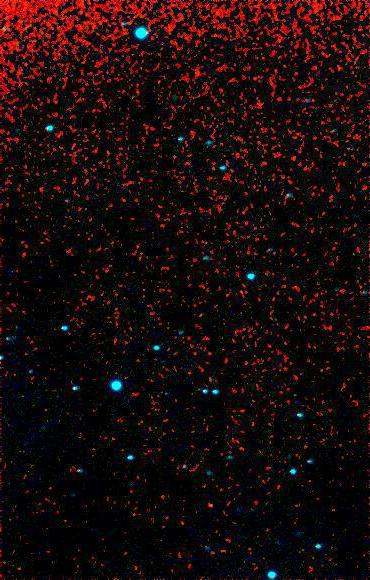star: (193, 488, 223, 518)
